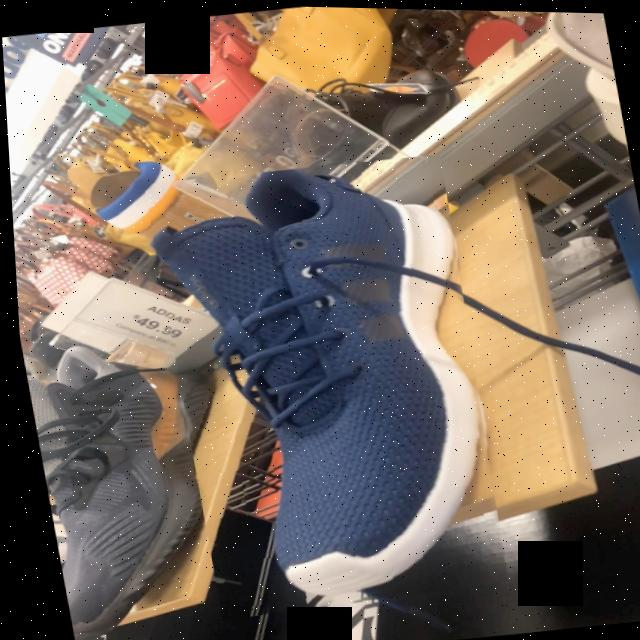shoe: (151, 168, 476, 601)
